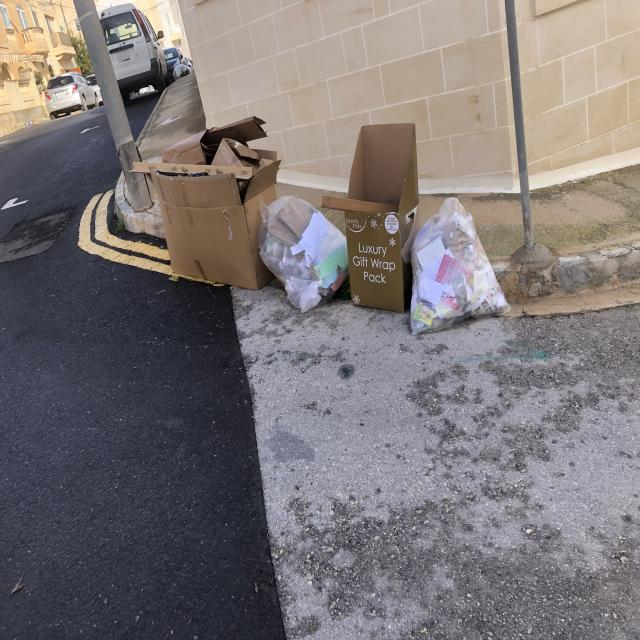Other: (129, 115, 284, 293), (323, 125, 421, 313)
Recycled Waste -Grey or Green Bag-: (411, 196, 514, 337), (259, 196, 349, 314)
